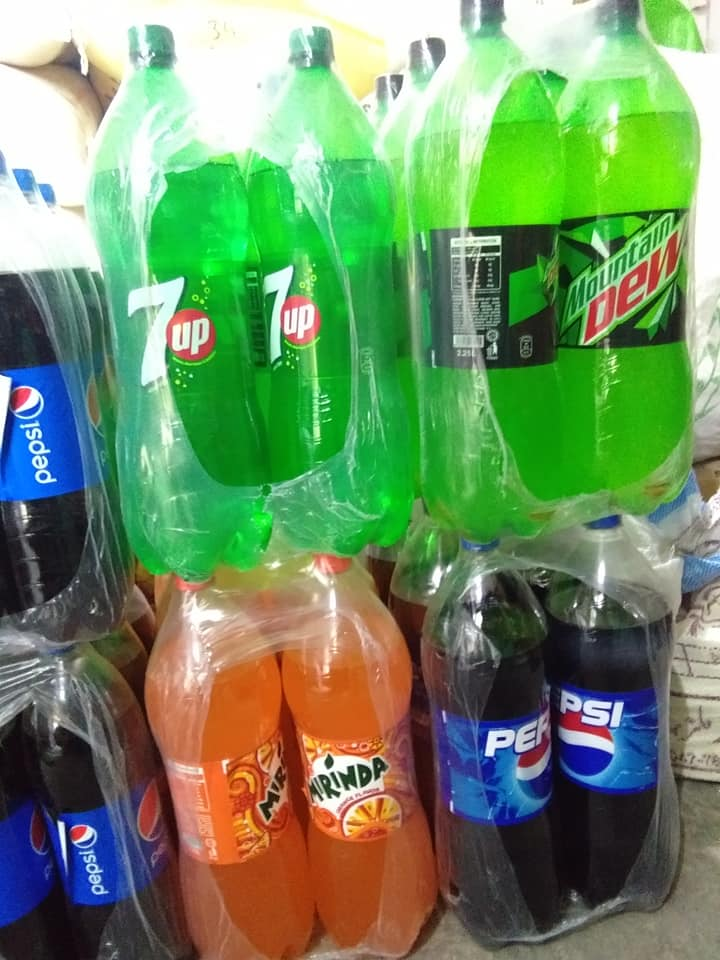7up: (125, 280, 218, 389), (262, 264, 322, 360)
mirinda: (307, 757, 391, 800)
mountaindew: (559, 214, 685, 345)
pepsi: (554, 712, 614, 779), (8, 387, 44, 418), (68, 825, 97, 850)
